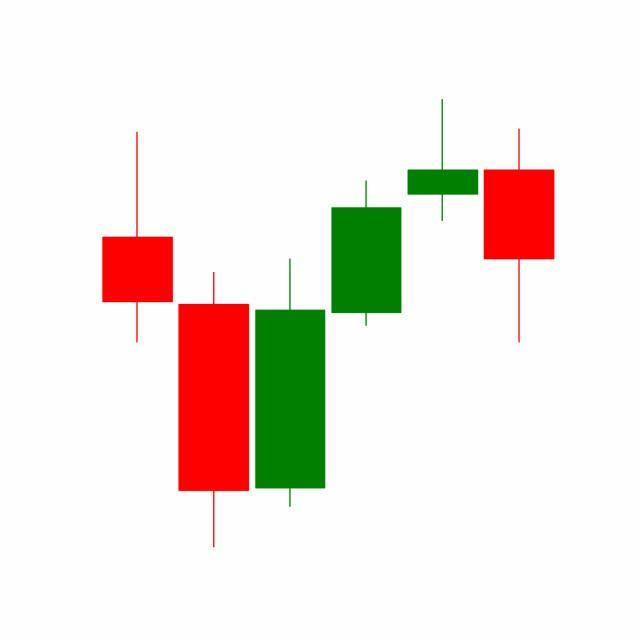Advance Block: (252, 100, 482, 513)
